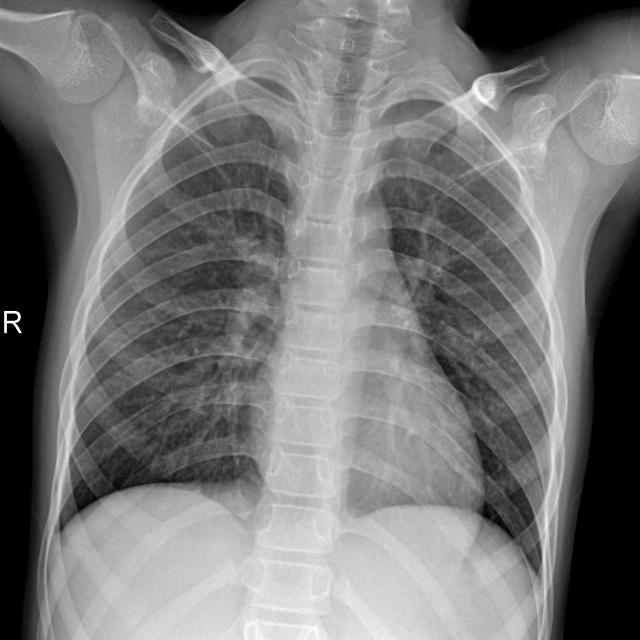no-pneumonia: (62, 116, 294, 523), (373, 142, 551, 571)
